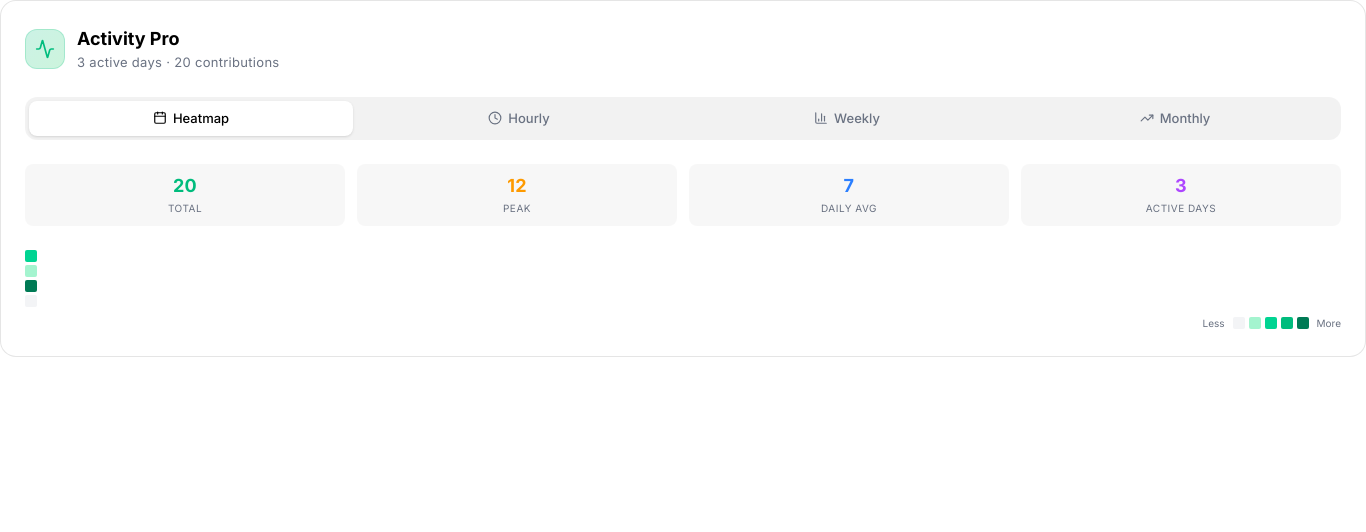
Test: ActivityHeatmapPro Component › toggles view modes when tab buttons are clicked
The image size is (1366, 532).
# Switch to Hourly
What coordinates should you click on to do the following:
click the button "Hourly"
I would click on:
 (519, 118)
Its box is 357,100 -> 681,136.
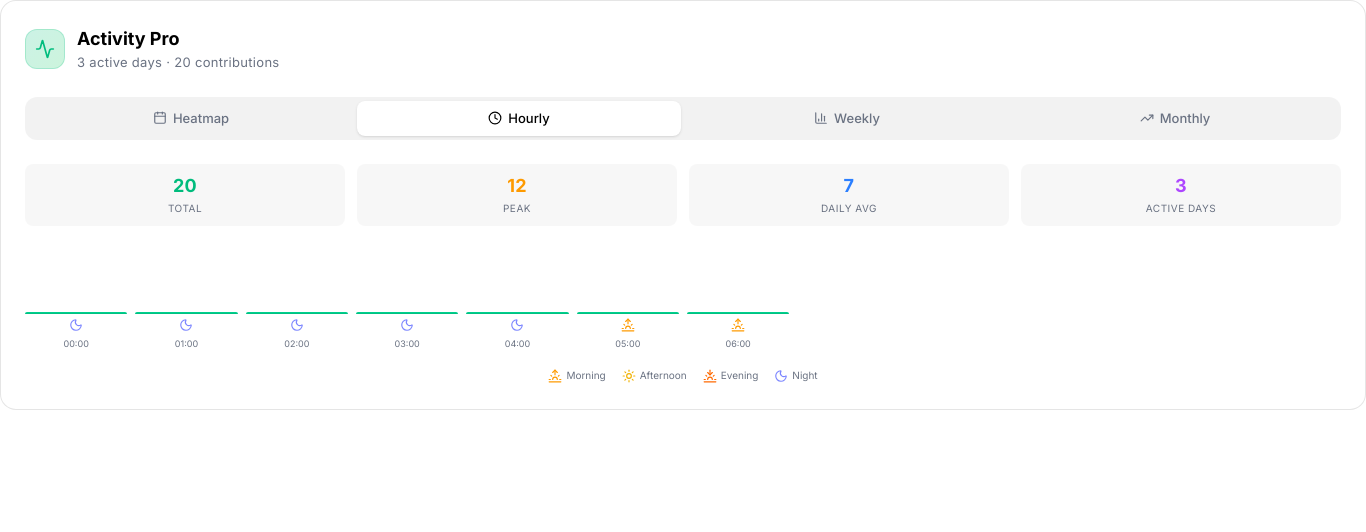
Now the text "Morning" is shown, box 566,367 -> 606,385
Now the text "Afternoon" is shown, box 640,367 -> 687,385
# Switch to Weekly
What coordinates should you click on to do the following:
click the button "Weekly"
I would click on:
 (847, 118)
Its box is 685,100 -> 1009,136.
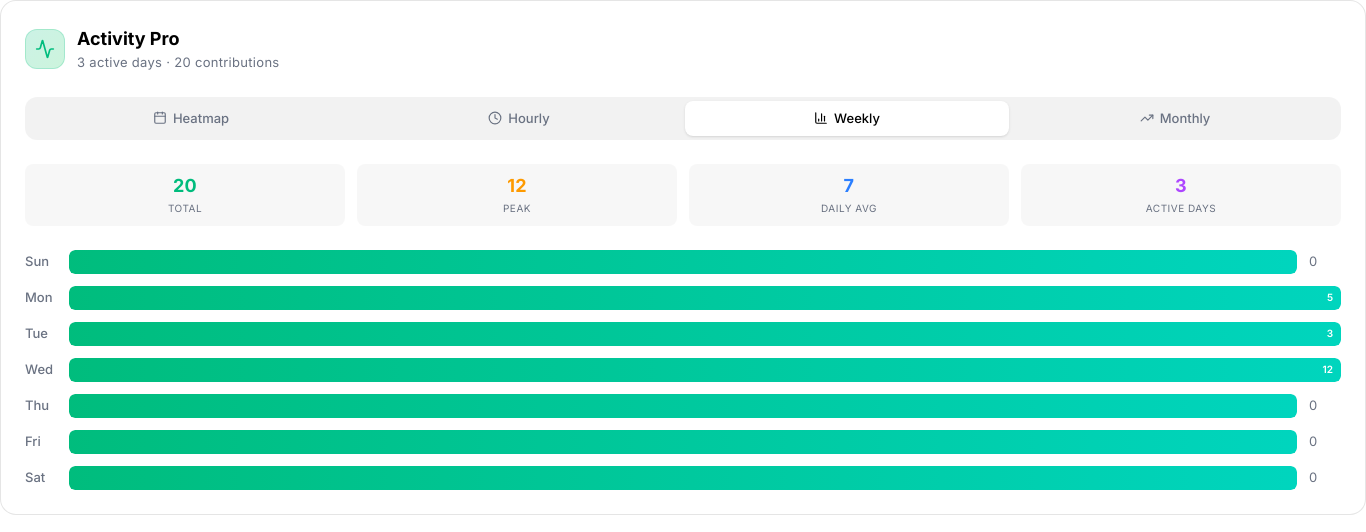
Now the text "Mon" is shown, box 25,288 -> 57,307
Now the text "Fri" is shown, box 25,433 -> 41,449
# Switch to Monthly
What coordinates should you click on to do the following:
click the button "Monthly"
I would click on:
 (1175, 118)
Its box is 1013,100 -> 1337,136.
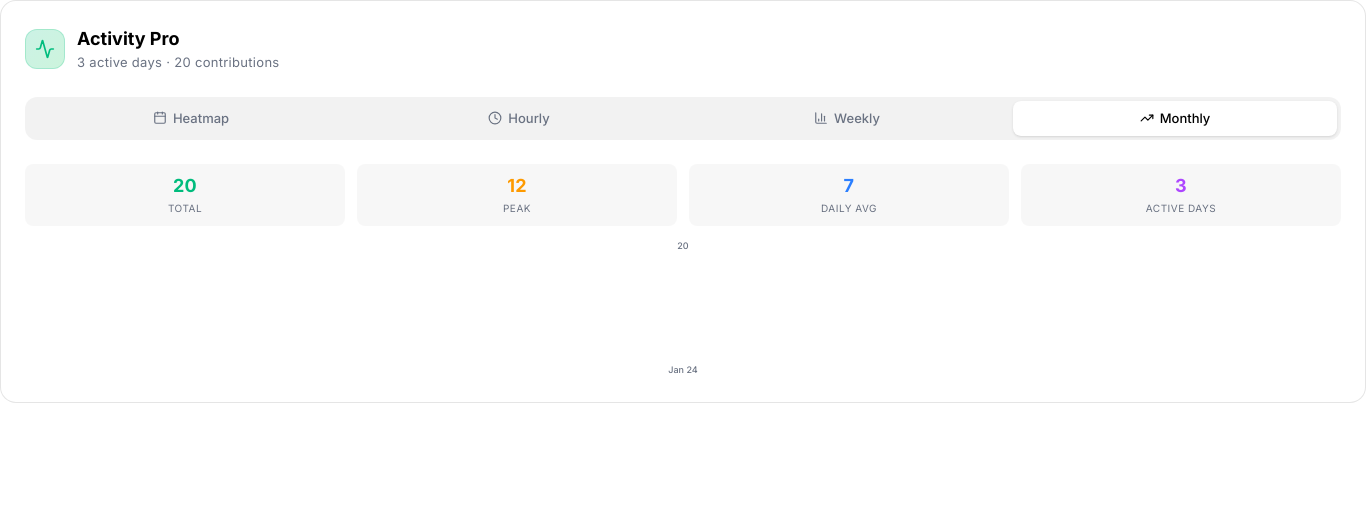
Now the text "Jan 24" is shown, box 668,362 -> 698,378
